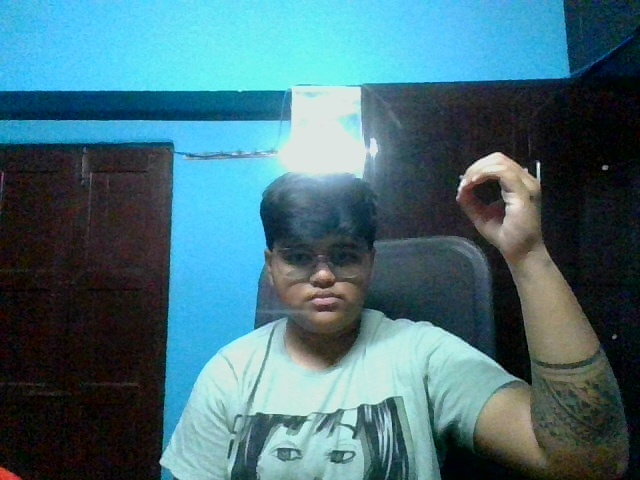O: (450, 145, 545, 265)
